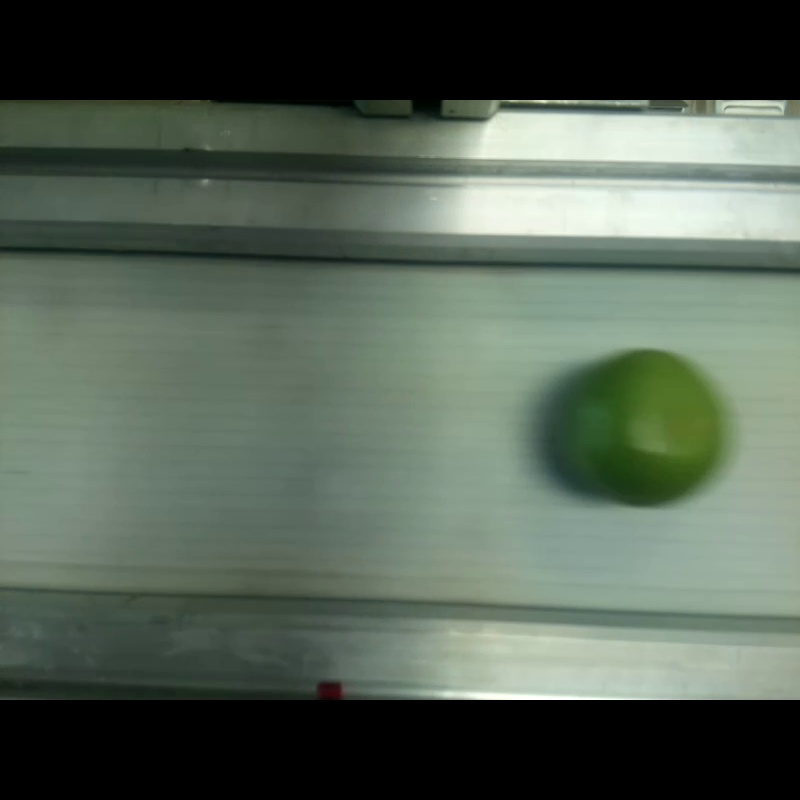lime: (564, 350, 720, 502)
